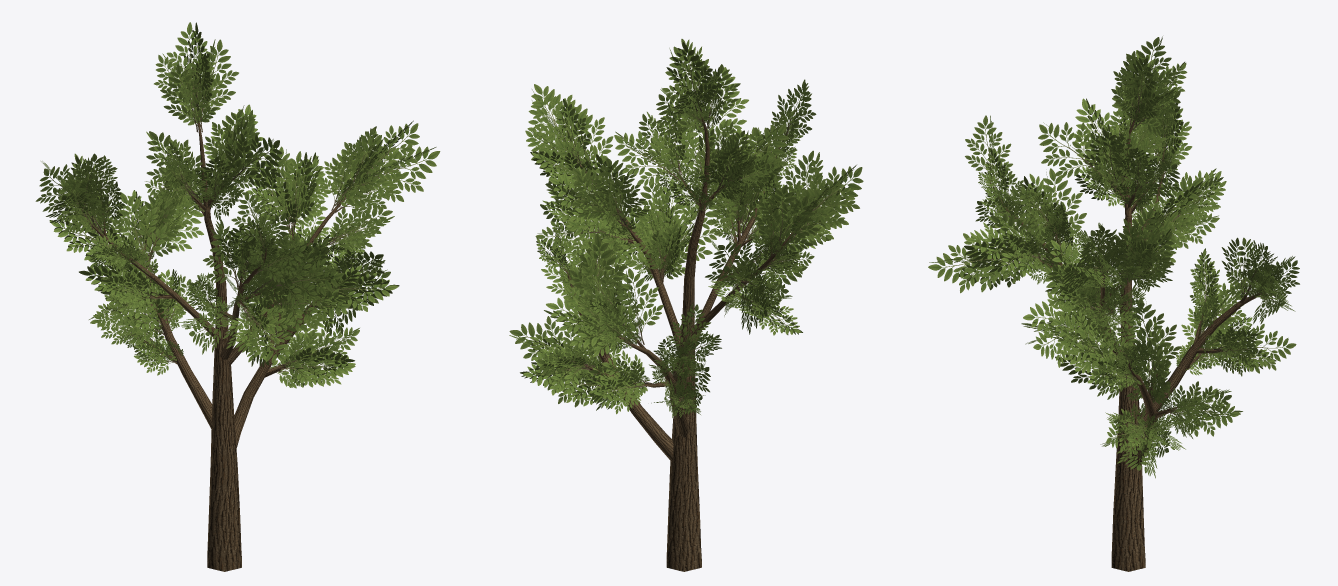
Rendered from Tree3.gltf.
3 views of the same model, side by side, from view 1: azimuth 30°, elevation 25°; view 2: azimuth 150°, elevation 25°; view 3: azimuth 270°, elevation 25° (orthographic). The views are drawn at different scales.
Visible parts, largest first — view 1: leaves.003, trunk.003; view 2: leaves.003, trunk.003; view 3: leaves.003, trunk.003.
Part boxes in pixels (left/top/right/bottom): leaves.003: left=35, top=22, right=440, bottom=388; trunk.003: left=82, top=113, right=355, bottom=571; leaves.003: left=509, top=39, right=863, bottom=417; trunk.003: left=564, top=114, right=793, bottom=571; leaves.003: left=928, top=36, right=1299, bottom=478; trunk.003: left=993, top=111, right=1263, bottom=571.
Size of the model in its own units: 97.62 by 122 by 84.31.
Materials: 2 (2 with a texture image).
